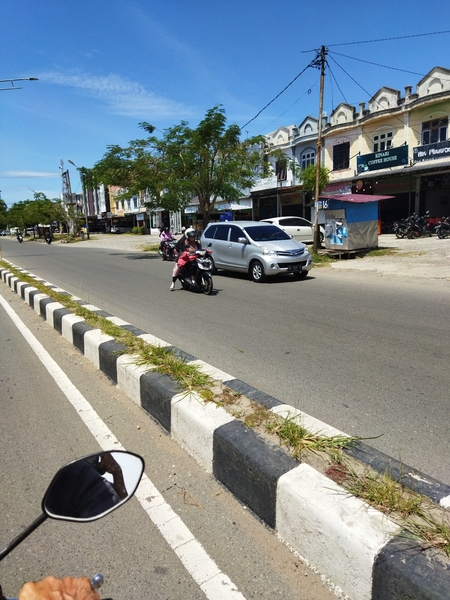car: (198, 218, 313, 286)
motorcycle: (170, 250, 219, 300)
